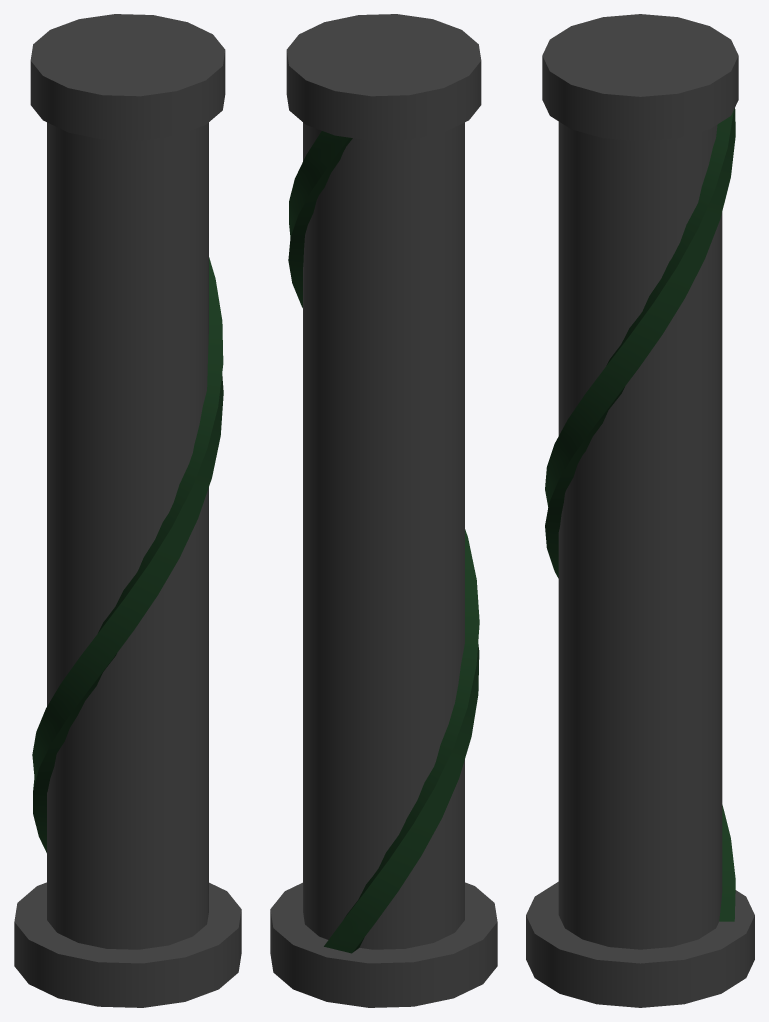
File: Pilar con decoracion.fbx
The picture shows the model from 3 angles, left to right: view 1: azimuth 30°, elevation 25°; view 2: azimuth 150°, elevation 25°; view 3: azimuth 270°, elevation 25°; orthographic projection.
Visible parts, largest first — view 1: PillarDeco; view 2: PillarDeco; view 3: PillarDeco.
Boxes of the visible parts, left/top/right/bottom form: PillarDeco: left=14, top=14, right=241, bottom=1007; PillarDeco: left=270, top=14, right=497, bottom=1007; PillarDeco: left=526, top=14, right=754, bottom=1007.
Size of the model in its own units: 140 by 610 by 140.
